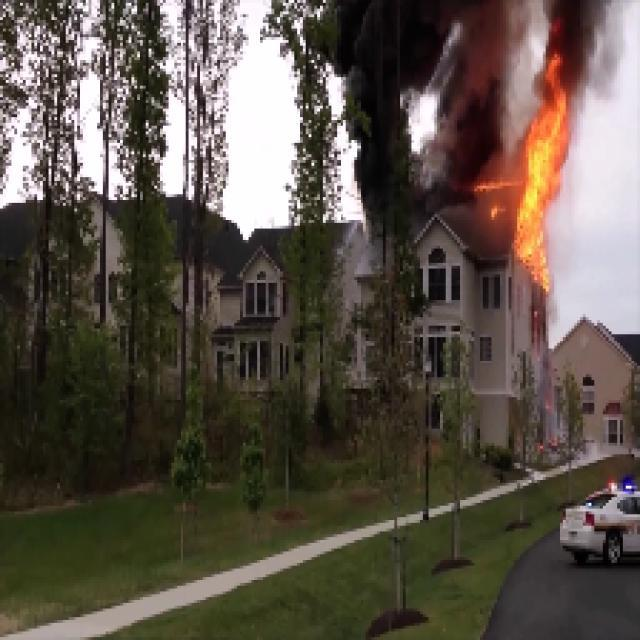Fire: (524, 67, 560, 282)
Smoke: (338, 6, 504, 192), (552, 0, 595, 65)
